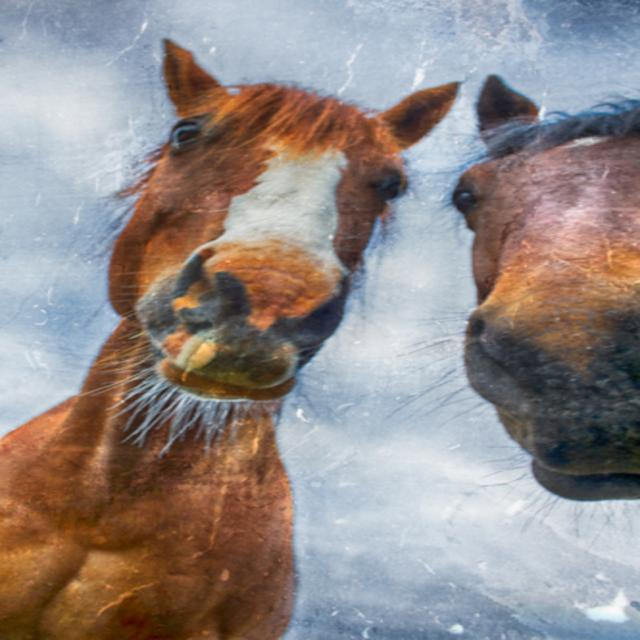Horse: (0, 34, 465, 638), (381, 64, 638, 532)
